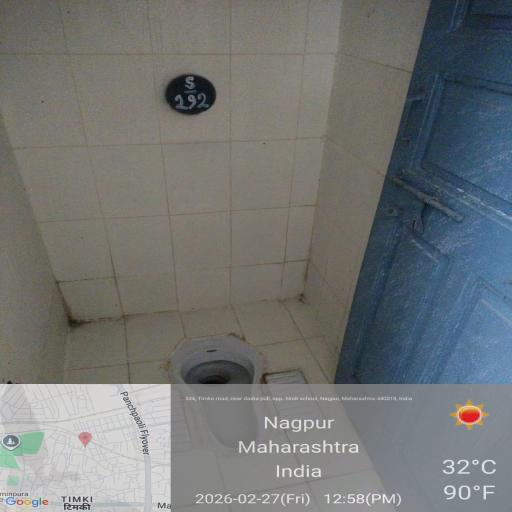clean_floor: (50, 331, 130, 512)
clean_indian: (140, 310, 334, 470)
partial_dirty_floor: (6, 9, 340, 346)
